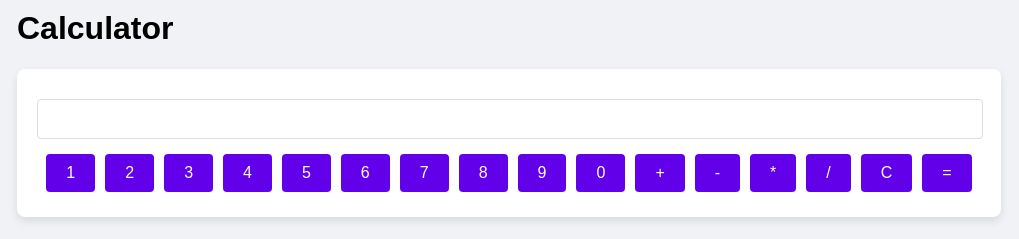
Scenario: Calculator Component › updates input value when buttons are clicked
Click the button "1".
click(71, 173)  # box [46, 154, 95, 192]
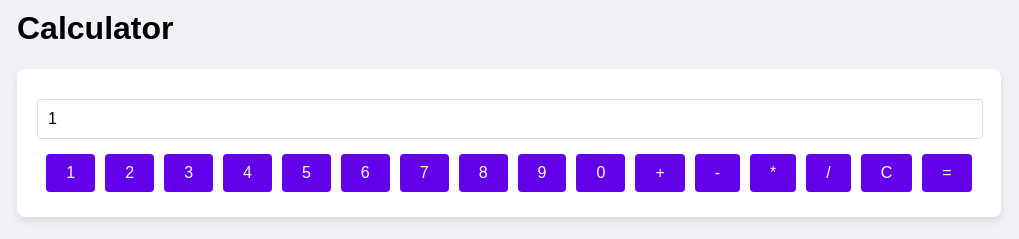
Click the button "2".
click(130, 173)  # box [105, 154, 154, 192]
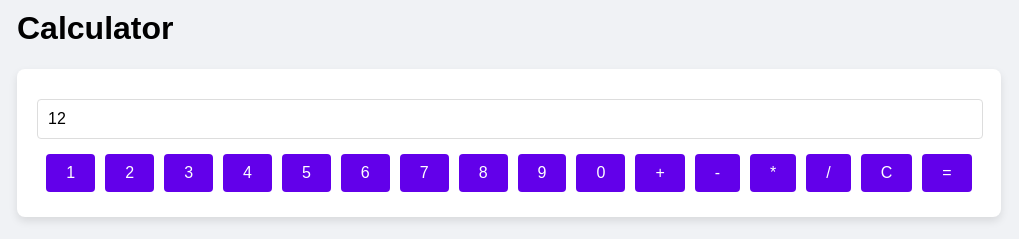
Expected: the field with test id "input-field" holds "12", [37, 99, 983, 139]
